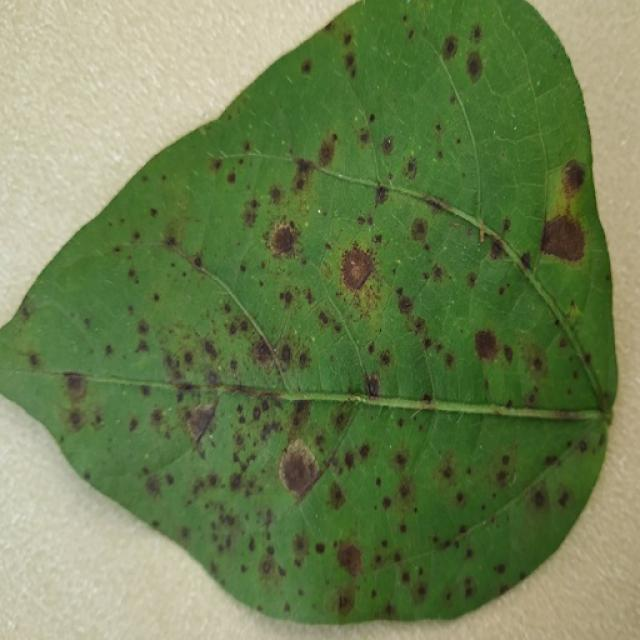Anthracnose: (277, 442, 321, 501), (335, 239, 380, 292), (539, 214, 586, 262), (184, 401, 218, 446), (490, 442, 519, 492), (327, 400, 360, 440), (268, 219, 301, 257), (519, 339, 549, 380), (161, 211, 190, 250), (287, 400, 314, 434), (336, 541, 362, 576), (561, 159, 587, 192), (334, 583, 359, 617), (473, 328, 499, 359), (161, 351, 185, 384), (436, 451, 458, 486), (317, 134, 339, 168), (240, 196, 262, 229), (63, 372, 88, 401), (252, 339, 275, 367), (327, 481, 347, 510), (410, 217, 429, 244), (488, 237, 507, 261), (466, 53, 483, 79), (293, 157, 315, 177), (144, 473, 162, 497), (442, 35, 459, 59), (397, 478, 414, 502), (67, 410, 85, 431), (292, 534, 308, 557), (366, 372, 381, 396), (531, 488, 548, 509), (397, 294, 414, 314), (404, 155, 418, 179), (374, 185, 389, 206), (279, 343, 293, 365), (267, 185, 283, 204), (260, 557, 275, 577), (344, 52, 357, 75), (519, 250, 533, 271), (203, 340, 218, 359), (19, 300, 34, 319), (229, 472, 243, 492), (463, 577, 476, 598), (27, 351, 42, 369), (279, 289, 294, 307), (378, 349, 393, 367), (150, 408, 165, 426), (380, 136, 394, 155), (134, 339, 150, 355), (206, 370, 220, 387), (557, 490, 570, 508), (343, 450, 355, 469), (136, 318, 150, 334), (395, 451, 409, 467), (210, 157, 223, 174), (415, 582, 428, 599), (503, 344, 514, 364), (128, 416, 140, 434), (300, 59, 313, 75), (431, 265, 444, 281), (317, 310, 330, 326), (471, 24, 483, 41), (358, 443, 370, 460), (444, 352, 456, 369), (544, 454, 559, 467), (359, 129, 371, 145), (466, 272, 477, 288), (314, 541, 326, 554), (226, 170, 237, 184), (381, 496, 392, 510), (494, 563, 506, 575), (247, 537, 256, 553), (127, 268, 138, 281), (104, 343, 114, 357), (455, 491, 465, 505), (578, 439, 588, 453), (252, 406, 262, 420), (372, 233, 383, 245), (193, 255, 203, 268), (343, 32, 352, 46), (501, 454, 510, 466), (83, 317, 92, 329), (149, 207, 158, 218), (368, 112, 376, 123), (239, 263, 247, 273)
